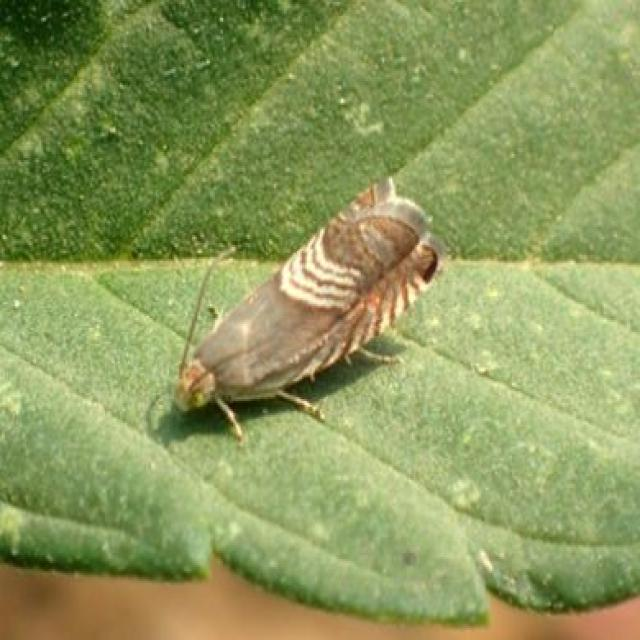cornborer-Adult-: (168, 170, 447, 452)
